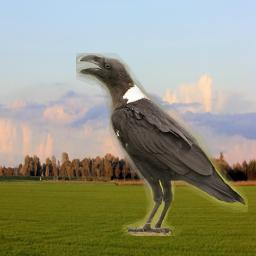Crow: (76, 53, 248, 236)
